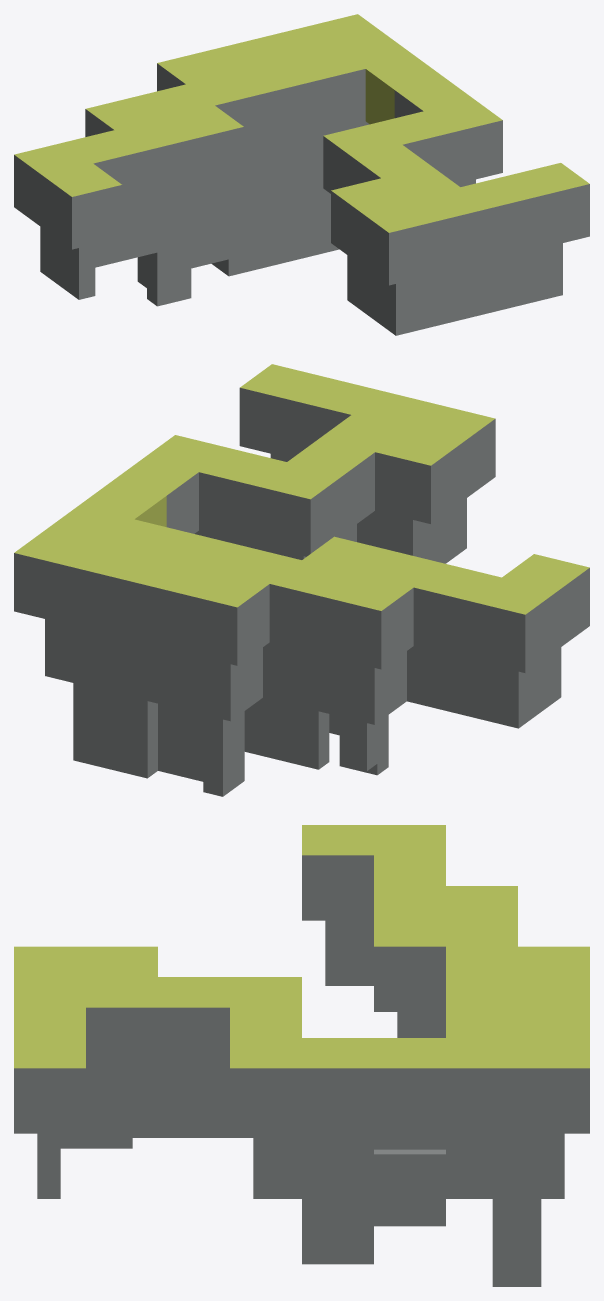
File: LEVEL_2.fbx
3 renders of one model, top to bottom at view 1: azimuth 30°, elevation 25°; view 2: azimuth 150°, elevation 25°; view 3: azimuth 270°, elevation 25°, orthographic. The views are drawn at different scales.
Parts seen in each view (by area): view 1: Cube.005; view 2: Cube.005; view 3: Cube.005.
Part boxes in pixels (left/top/right/bottom): Cube.005: left=14, top=14, right=589, bottom=335; Cube.005: left=14, top=364, right=589, bottom=796; Cube.005: left=14, top=825, right=589, bottom=1286.
Bounding box in the file's own units: 1600 × 733 × 1600.
